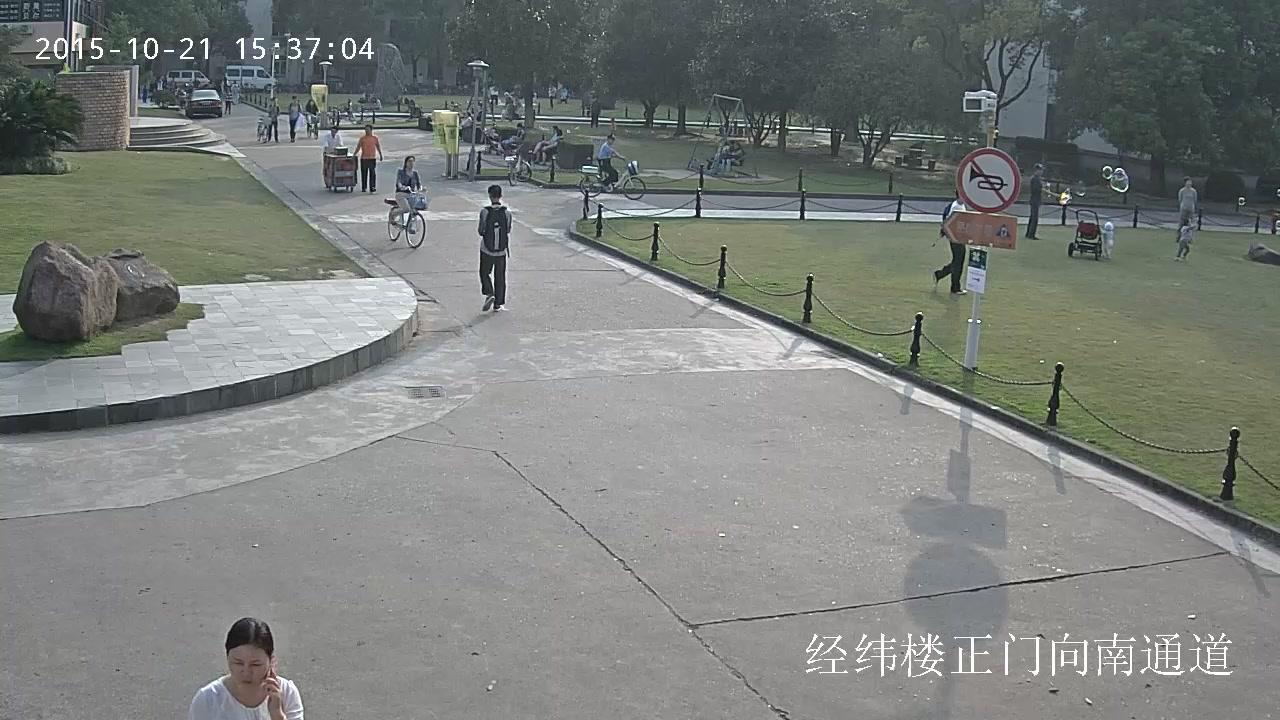person: (189, 616, 303, 720), (579, 132, 645, 201), (477, 184, 512, 313), (384, 155, 429, 249), (323, 125, 382, 194), (929, 188, 967, 294), (1067, 208, 1115, 262), (390, 155, 426, 225), (324, 125, 357, 193), (352, 124, 382, 193), (596, 132, 626, 187), (1175, 176, 1198, 243), (1025, 162, 1044, 239), (1173, 216, 1198, 263), (256, 96, 280, 144), (534, 129, 564, 165), (532, 126, 559, 155), (264, 96, 280, 144), (720, 141, 744, 172), (304, 96, 321, 139), (287, 95, 302, 142), (324, 125, 345, 157), (1099, 221, 1115, 262), (304, 96, 321, 132), (590, 96, 601, 127)
